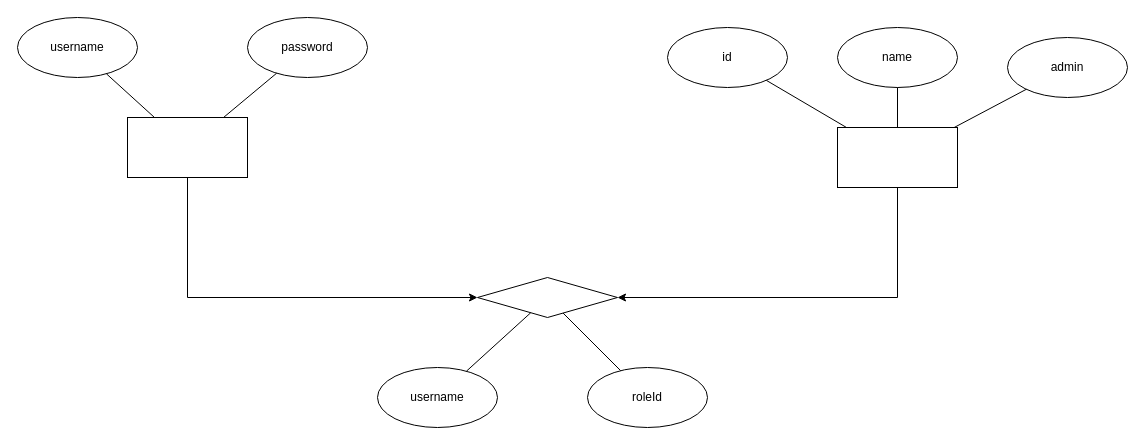
Some shapes in this 1145 by 445 pixel diagram are drawn without their labels. Each missing label, with the centre of its shape:
"Role" belongs at pixel 897 157.
"User" belongs at pixel 187 147.
"User Role" belongs at pixel 547 297.
